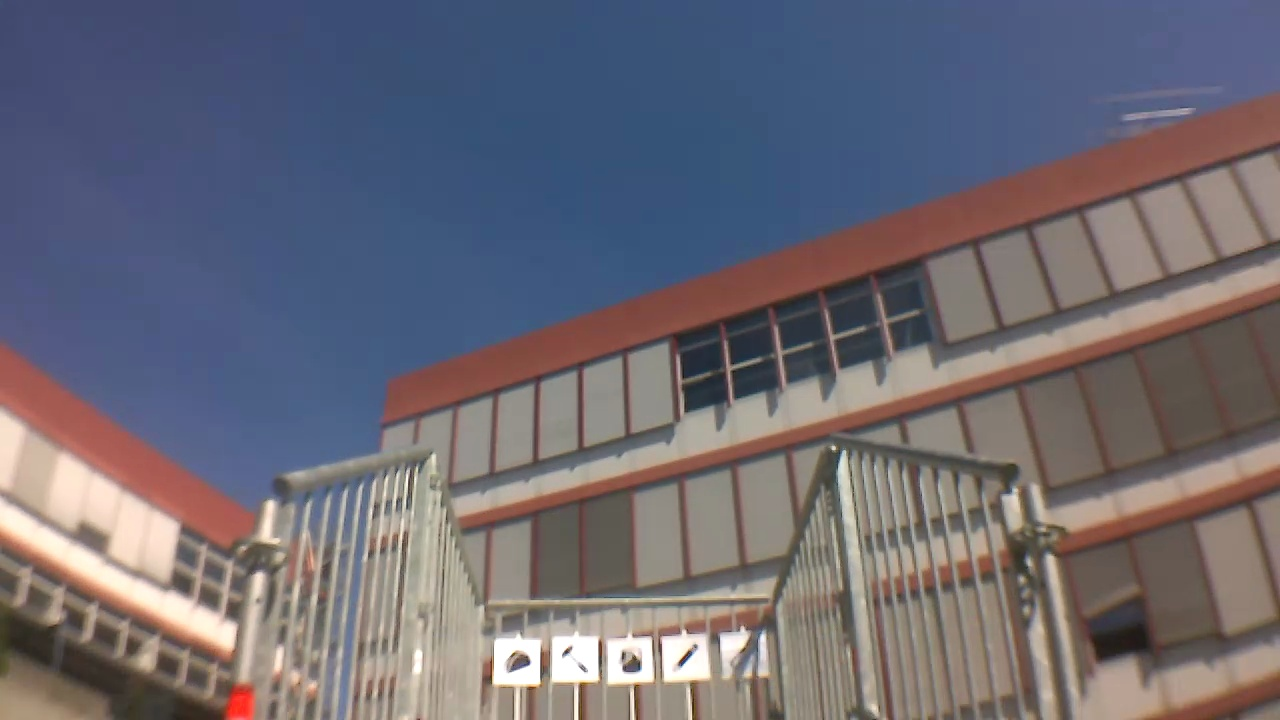stairs: (227, 447, 1072, 720)
